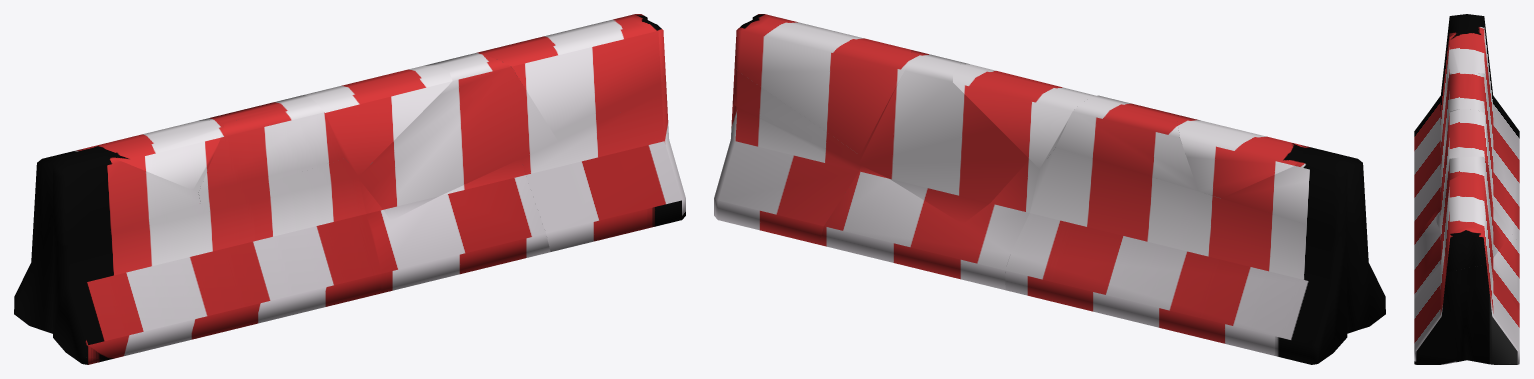
Rendered from barrier_broken.fbx.
The picture shows the model from 3 angles, left to right: view 1: azimuth 30°, elevation 25°; view 2: azimuth 150°, elevation 25°; view 3: azimuth 270°, elevation 25°; orthographic projection. The views are drawn at different scales.
Parts seen in each view (by area): view 1: LowPolyBarrier2Plain.001_cell.181, LowPolyBarrier2Plain.001_cell.180_cell, LowPolyBarrier2Plain.001_cell.179_cell.003, LowPolyBarrier2Plain.001_cell.180_cell.002, LowPolyBarrier2Plain.001_cell.179_cell.002, LowPolyBarrier2Plain.001_cell.176_cell.002, LowPolyBarrier2Plain.001_cell.176_cell.001, LowPolyBarrier2Plain.001_cell.182, LowPolyBarrier2Plain.001_cell.176_cell.003, LowPolyBarrier2Plain.001_cell.176_cell, LowPolyBarrier2Plain.001_cell.179_cell; view 2: LowPolyBarrier2Plain.001_cell.181, LowPolyBarrier2Plain.001_cell.179_cell.003, LowPolyBarrier2Plain.001_cell.179_cell.002, LowPolyBarrier2Plain.001_cell.180_cell, LowPolyBarrier2Plain.001_cell.180_cell.002, LowPolyBarrier2Plain.001_cell.176_cell.002, LowPolyBarrier2Plain.001_cell.176_cell, LowPolyBarrier2Plain.001_cell.182, LowPolyBarrier2Plain.001_cell.176_cell.003, LowPolyBarrier2Plain.001_cell.179_cell, LowPolyBarrier2Plain.001_cell.179_cell.001, LowPolyBarrier2Plain.001_cell.176_cell.001; view 3: LowPolyBarrier2Plain.001_cell.180_cell, LowPolyBarrier2Plain.001_cell.181, LowPolyBarrier2Plain.001_cell.179_cell.002, LowPolyBarrier2Plain.001_cell.180_cell.002, LowPolyBarrier2Plain.001_cell.182, LowPolyBarrier2Plain.001_cell.179_cell.003, LowPolyBarrier2Plain.001_cell.176_cell.003, LowPolyBarrier2Plain.001_cell.176_cell.002, LowPolyBarrier2Plain.001_cell.176_cell, LowPolyBarrier2Plain.001_cell.179_cell.001, LowPolyBarrier2Plain.001_cell.176_cell.001, LowPolyBarrier2Plain.001_cell.179_cell.
Boxes of the visible parts, bbox=[...] form: LowPolyBarrier2Plain.001_cell.181: bbox=[14, 158, 381, 359]; LowPolyBarrier2Plain.001_cell.180_cell: bbox=[521, 91, 685, 251]; LowPolyBarrier2Plain.001_cell.179_cell.003: bbox=[358, 54, 558, 220]; LowPolyBarrier2Plain.001_cell.180_cell.002: bbox=[372, 159, 550, 293]; LowPolyBarrier2Plain.001_cell.179_cell.002: bbox=[472, 14, 665, 141]; LowPolyBarrier2Plain.001_cell.176_cell.002: bbox=[34, 149, 200, 245]; LowPolyBarrier2Plain.001_cell.176_cell.001: bbox=[198, 101, 344, 203]; LowPolyBarrier2Plain.001_cell.182: bbox=[305, 65, 452, 176]; LowPolyBarrier2Plain.001_cell.176_cell.003: bbox=[83, 120, 224, 192]; LowPolyBarrier2Plain.001_cell.176_cell: bbox=[198, 95, 313, 123]; LowPolyBarrier2Plain.001_cell.179_cell: bbox=[359, 179, 390, 229]; LowPolyBarrier2Plain.001_cell.181: bbox=[1005, 147, 1385, 364]; LowPolyBarrier2Plain.001_cell.179_cell.003: bbox=[858, 50, 1029, 223]; LowPolyBarrier2Plain.001_cell.179_cell.002: bbox=[734, 14, 911, 154]; LowPolyBarrier2Plain.001_cell.180_cell: bbox=[714, 104, 860, 244]; LowPolyBarrier2Plain.001_cell.180_cell.002: bbox=[819, 165, 1010, 290]; LowPolyBarrier2Plain.001_cell.176_cell.002: bbox=[1221, 145, 1366, 234]; LowPolyBarrier2Plain.001_cell.176_cell: bbox=[1056, 100, 1197, 191]; LowPolyBarrier2Plain.001_cell.182: bbox=[953, 64, 1096, 168]; LowPolyBarrier2Plain.001_cell.176_cell.003: bbox=[1178, 120, 1303, 198]; LowPolyBarrier2Plain.001_cell.179_cell: bbox=[963, 159, 1039, 253]; LowPolyBarrier2Plain.001_cell.179_cell.001: bbox=[732, 68, 859, 164]; LowPolyBarrier2Plain.001_cell.176_cell.001: bbox=[1088, 95, 1200, 121]; LowPolyBarrier2Plain.001_cell.180_cell: bbox=[1414, 250, 1519, 364]; LowPolyBarrier2Plain.001_cell.181: bbox=[1414, 60, 1519, 243]; LowPolyBarrier2Plain.001_cell.179_cell.002: bbox=[1442, 173, 1491, 272]; LowPolyBarrier2Plain.001_cell.180_cell.002: bbox=[1414, 215, 1519, 310]; LowPolyBarrier2Plain.001_cell.182: bbox=[1444, 109, 1489, 173]; LowPolyBarrier2Plain.001_cell.179_cell.003: bbox=[1435, 156, 1504, 262]; LowPolyBarrier2Plain.001_cell.176_cell.003: bbox=[1445, 28, 1488, 99]; LowPolyBarrier2Plain.001_cell.176_cell.002: bbox=[1444, 14, 1488, 107]; LowPolyBarrier2Plain.001_cell.176_cell: bbox=[1465, 73, 1488, 146]; LowPolyBarrier2Plain.001_cell.179_cell.001: bbox=[1444, 258, 1492, 290]; LowPolyBarrier2Plain.001_cell.176_cell.001: bbox=[1444, 73, 1465, 151]; LowPolyBarrier2Plain.001_cell.179_cell: bbox=[1433, 169, 1511, 242].
Size of the model in its own units: 300 by 83.51 by 59.99.
